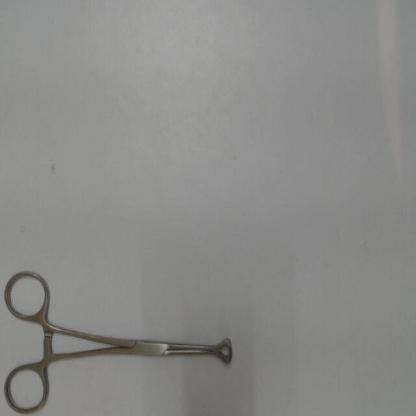Babcock Tissue Forceps: (1, 264, 236, 415)
